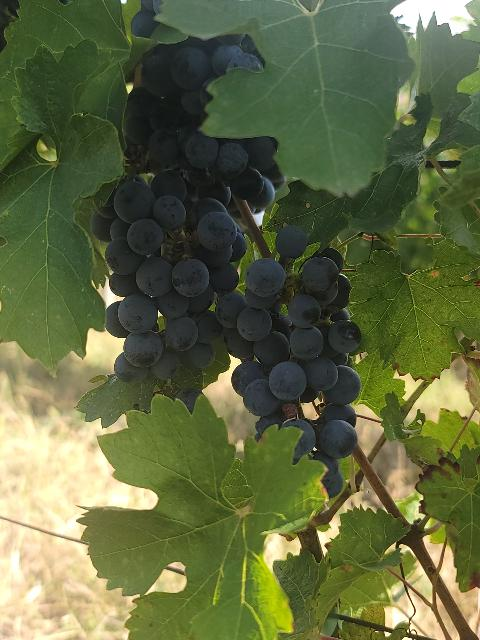grapes: (215, 225, 361, 496), (81, 171, 236, 426), (125, 38, 284, 205)
